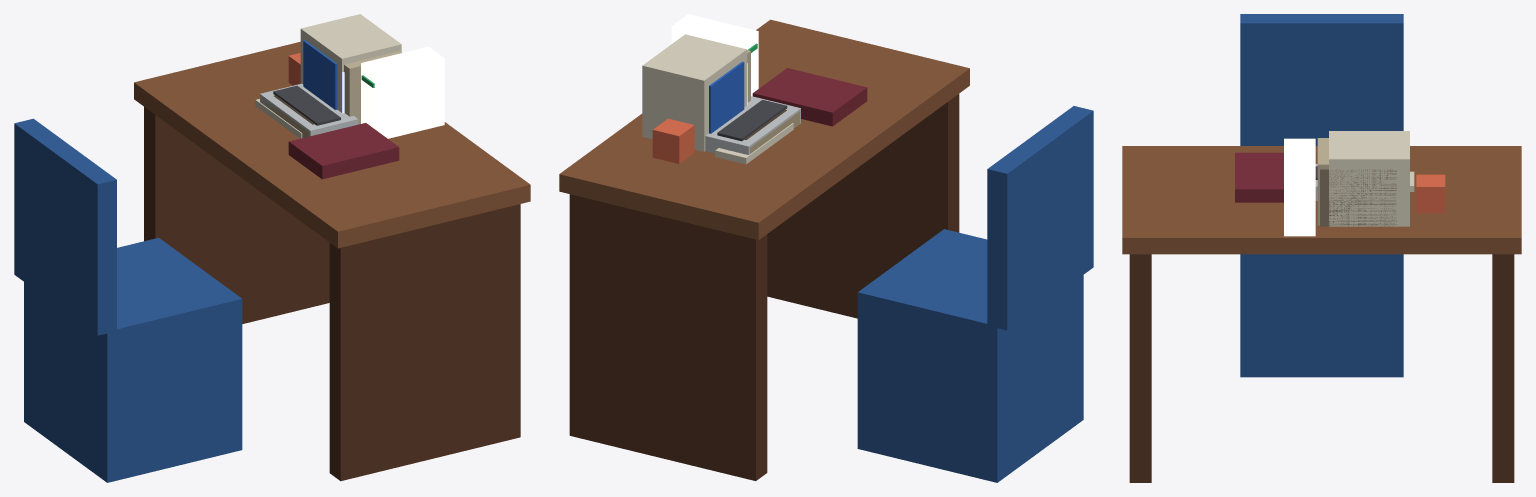
File: desk.glb
3 renders of one model, left to right at view 1: azimuth 30°, elevation 25°; view 2: azimuth 150°, elevation 25°; view 3: azimuth 270°, elevation 25°, orthographic. The views are drawn at different scales.
Parts seen in each view (by area): view 1: Box3, Box6, Box1, Box2, Box7, Box11, Box4, Box9, Box10, Box17, Box18, Box15; view 2: Box2, Box6, Box1, Box3, Box7, Box9, Box4, Box11, Box10, Box5, Box17, Box18 (+1 smaller); view 3: Box1, Box6, Box7, Box9, Box2, Box3, Box11, Box4, Box19, Box5, Box15.
Part boxes in pixels (x1,y1,x2,y2): Box3: (329,204,520,481); Box6: (24,237,242,482); Box1: (134,41,530,248); Box2: (144,107,329,323); Box7: (14,118,116,335); Box11: (361,46,444,138); Box4: (288,123,399,179); Box9: (300,14,401,112); Box10: (303,40,337,109); Box17: (260,83,358,136); Box18: (273,85,340,125); Box15: (344,51,401,124); Box2: (569,194,767,480); Box6: (857,229,1083,482); Box1: (559,19,969,240); Box3: (767,94,959,318); Box7: (987,106,1093,330); Box9: (642,34,746,151); Box4: (752,68,867,126); Box11: (671,14,758,96); Box10: (709,61,744,133); Box5: (652,118,694,163); Box17: (705,96,800,154); Box18: (717,99,787,141); Box1: (1122,146,1521,254); Box6: (1240,254,1403,377); Box7: (1240,14,1403,145); Box9: (1329,131,1409,226); Box2: (1492,254,1514,482); Box3: (1129,254,1151,482); Box11: (1284,138,1315,236); Box4: (1235,152,1283,202); Box19: (1320,168,1396,226); Box5: (1416,174,1445,213); Box15: (1317,138,1328,225).
Bounding box in the file's own units: 1.16 × 0.9596 × 1.1.
